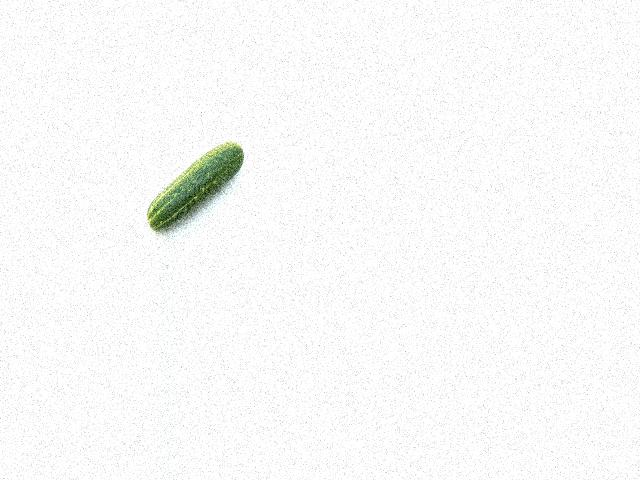cucumber: (145, 141, 243, 231)
